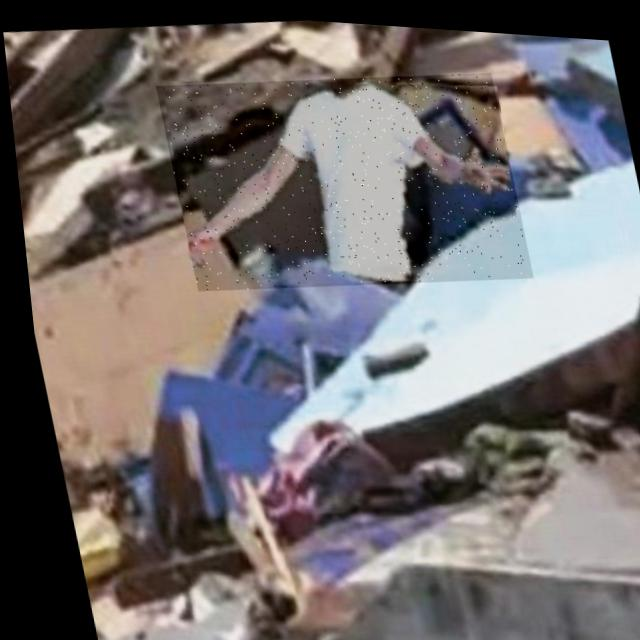Person in Rubble: (151, 48, 531, 307)
